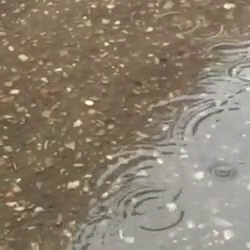drop: (92, 151, 182, 215), (171, 99, 250, 150), (120, 190, 186, 233), (76, 216, 128, 250), (156, 11, 196, 35), (210, 41, 241, 65), (191, 21, 223, 40), (228, 61, 250, 86), (211, 164, 234, 179)
